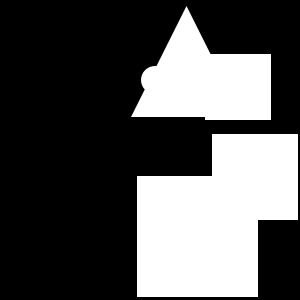circle: (137, 176, 258, 297), (212, 134, 298, 220), (205, 54, 271, 120)
rectangle: (141, 66, 169, 94)
triangle: (131, 6, 242, 117)
